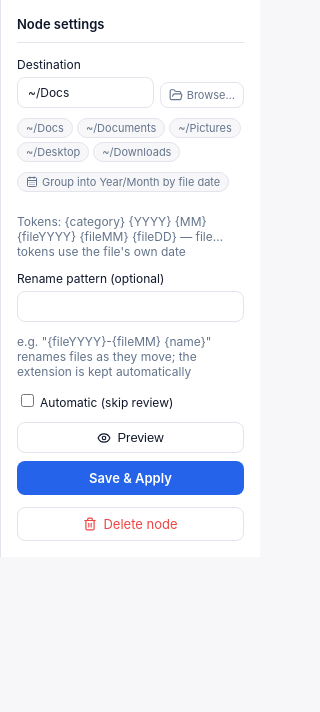
Test: ConfigPanel › Preview shows would-move counts without applying
Click the button "Preview".
click(130, 438)  # box [17,422,244,453]
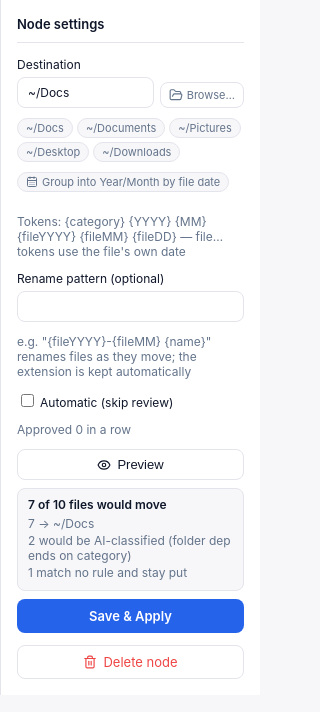
Expected: the text "7 of 10 files would move" is shown, [28,497,167,512]
Expected: the text "7 → ~/Docs" is shown, [28,516,94,531]
Expected: the text "2 would be AI-classified (folder depends on category)" is shown, [28,533,233,563]
